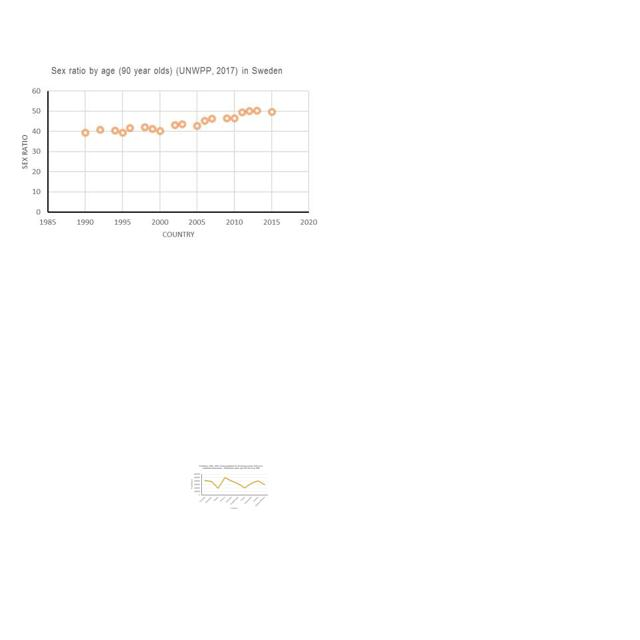Graph: (16, 60, 319, 240), (189, 464, 270, 510)
